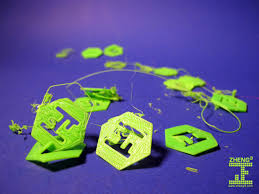fail: (30, 64, 163, 114), (183, 84, 244, 136), (97, 109, 152, 155), (7, 114, 52, 138)
